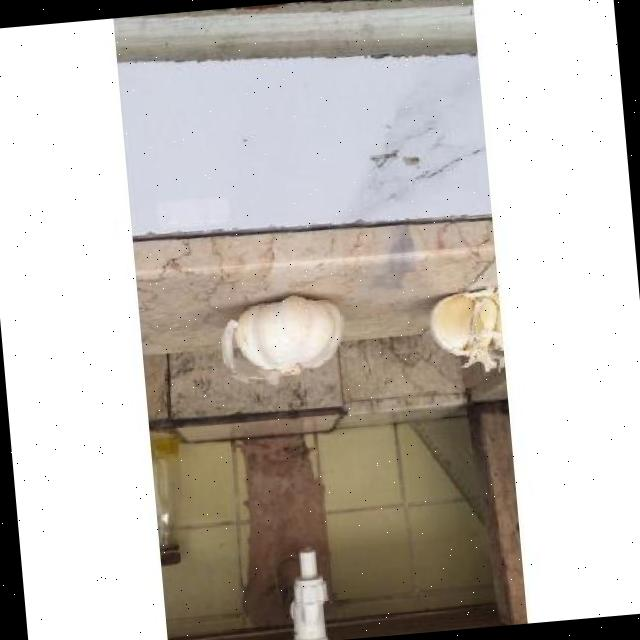garlic: (220, 294, 343, 383), (429, 289, 502, 371)
